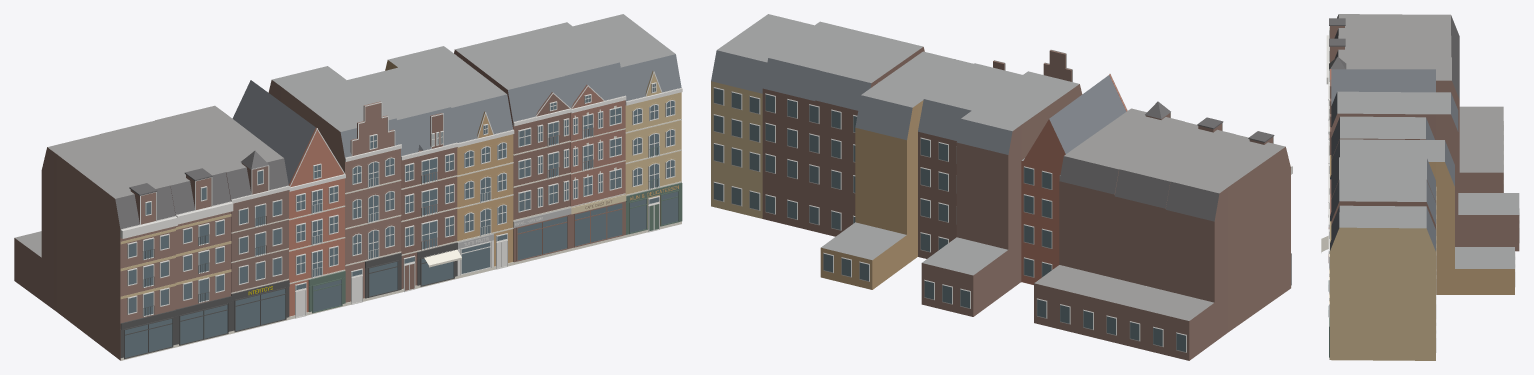
File: chunk-face-bilder-236022-167243.glb
The picture shows the model from 3 angles, left to right: view 1: azimuth 30°, elevation 25°; view 2: azimuth 150°, elevation 25°; view 3: azimuth 270°, elevation 25°; orthographic projection. The views are drawn at different scales.
Parts seen in each view (by area): view 1: face-bilder-236022-167243; view 2: face-bilder-236022-167243; view 3: face-bilder-236022-167243.
Boxes of the visible parts, x1,y1,x2,y2 form: face-bilder-236022-167243: (14,14,682,360); face-bilder-236022-167243: (711,14,1292,360); face-bilder-236022-167243: (1321,14,1519,360).
Size of the model in its own units: 59.44 by 19.7 by 22.61.
